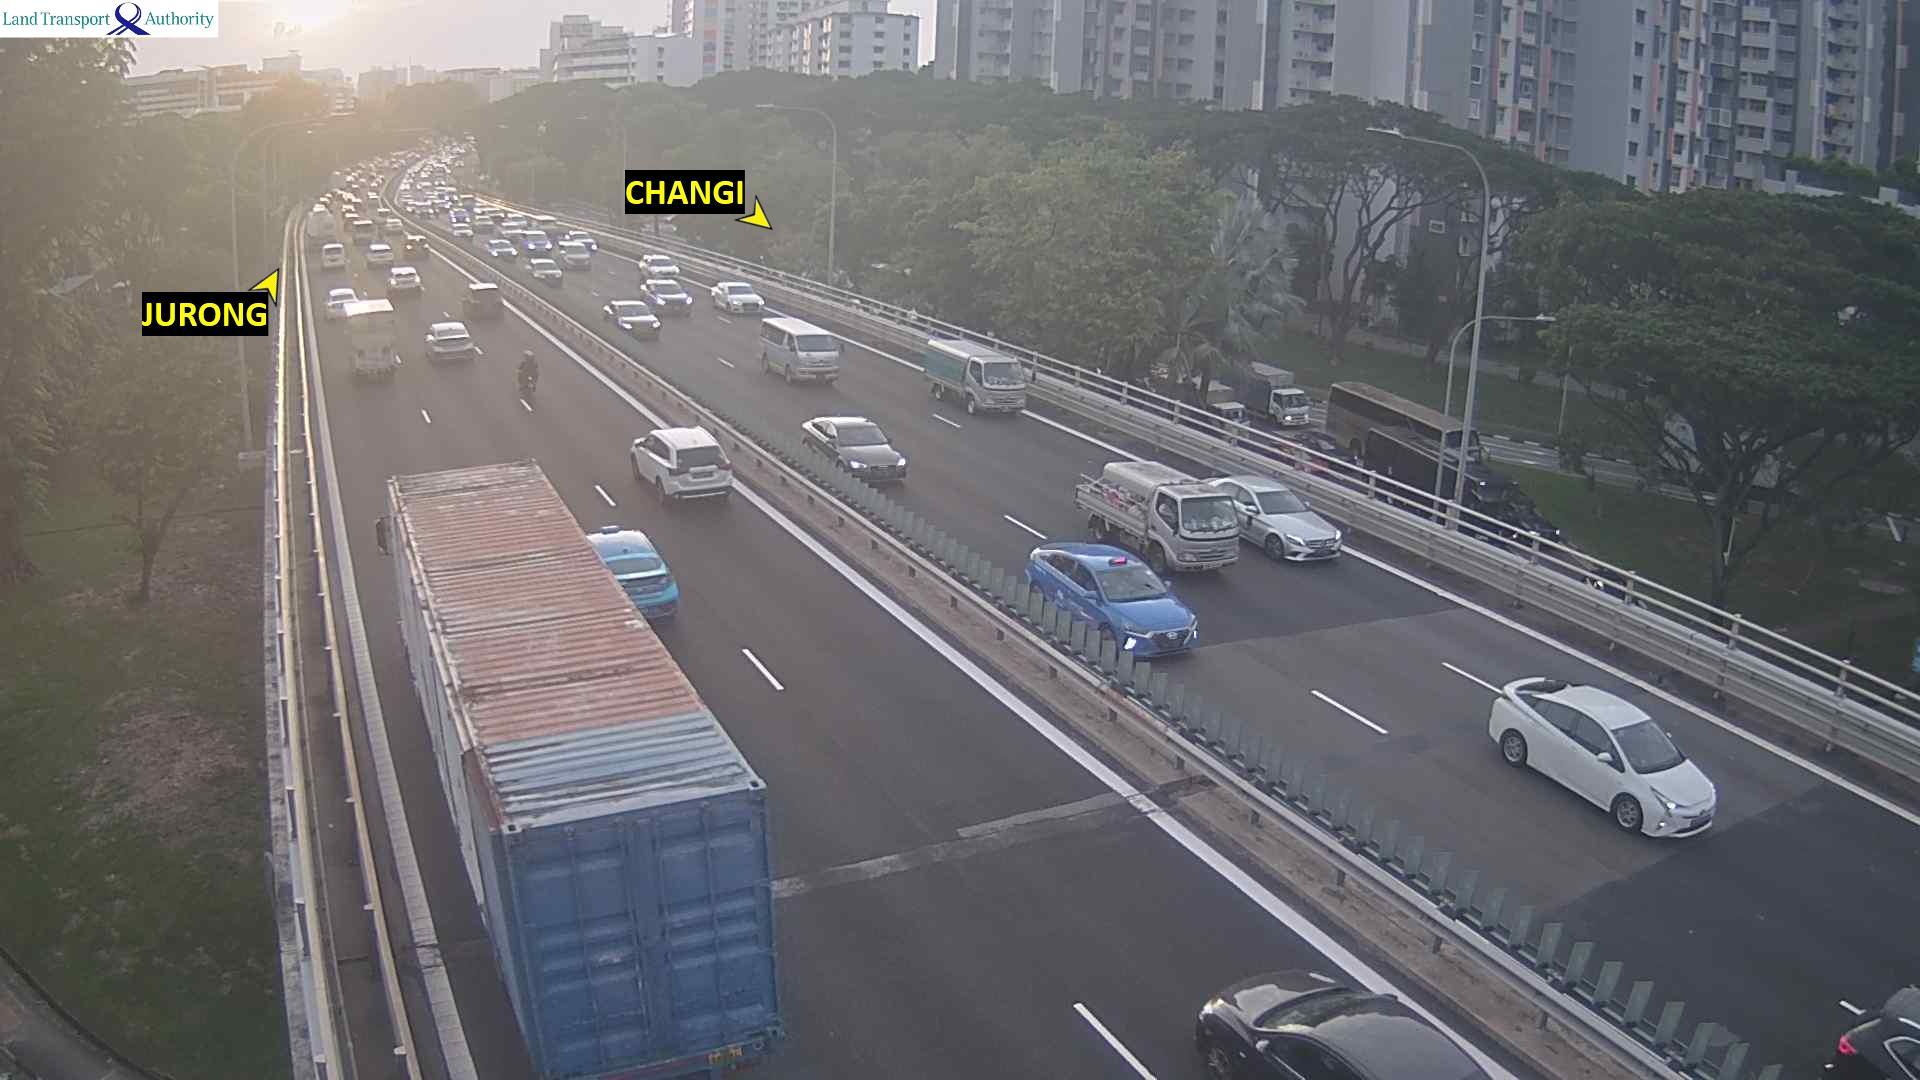incoming: (1604, 725, 1721, 835), (1089, 568, 1201, 655), (1251, 489, 1346, 566), (1151, 495, 1242, 571), (831, 425, 911, 484), (975, 357, 1029, 415), (787, 332, 843, 385), (1271, 386, 1313, 427), (615, 303, 659, 339), (650, 285, 696, 313), (727, 285, 767, 314), (533, 260, 566, 287), (649, 258, 682, 280), (563, 248, 592, 272)
